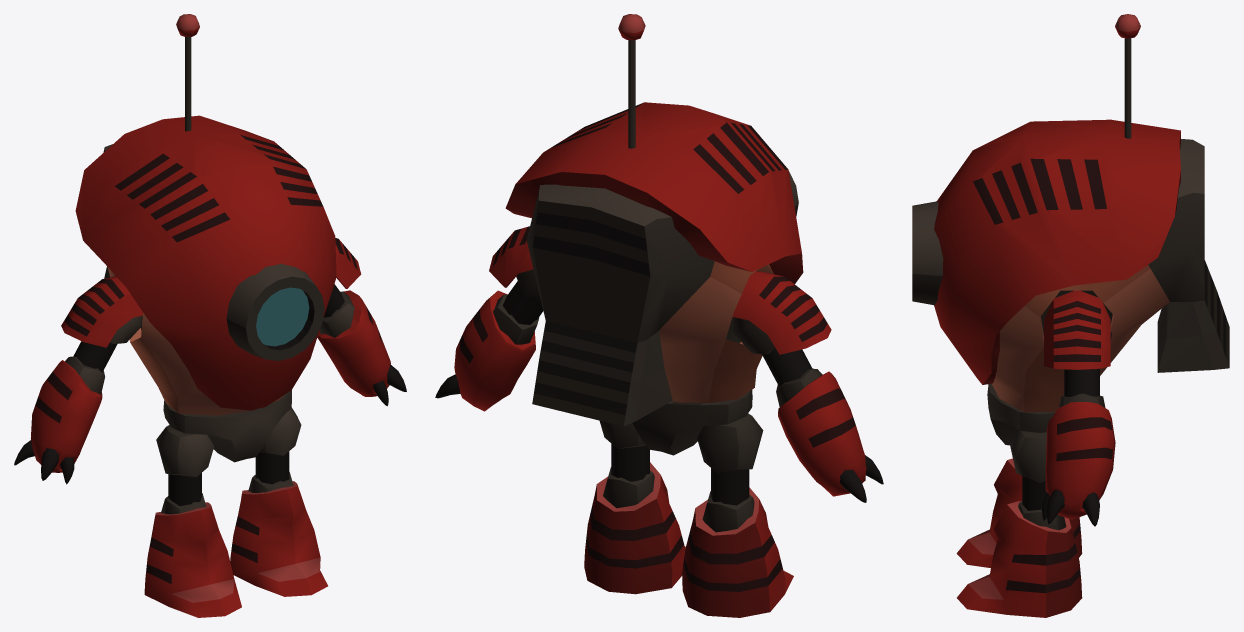
The model's file is Robot.FBX.
3 views of the same model, side by side, from view 1: azimuth 30°, elevation 25°; view 2: azimuth 150°, elevation 25°; view 3: azimuth 270°, elevation 25° (orthographic). The views are drawn at different scales.
Visible parts, largest first — view 1: Robot; view 2: Robot; view 3: Robot.
Boxes of the visible parts, bbox=[...] form: Robot: bbox=[14, 14, 406, 617]; Robot: bbox=[435, 14, 883, 617]; Robot: bbox=[912, 14, 1229, 617].
Bounding box in the file's own units: 5.84 × 4.02 × 7.86.
